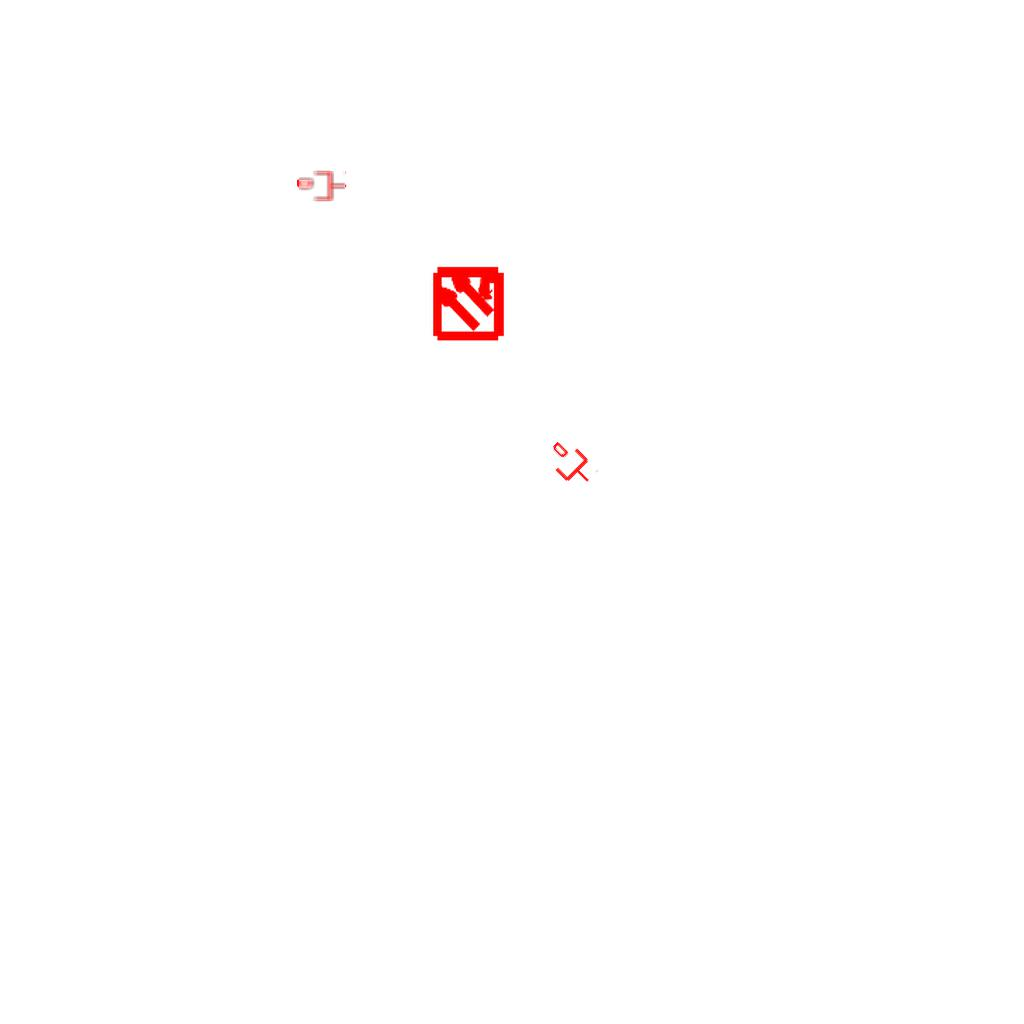Datenanschluss_einfach: (541, 434, 601, 494), (297, 169, 347, 203)
OT_Multisensormelder_(Kombination_RMO_WMD): (412, 245, 525, 358)
